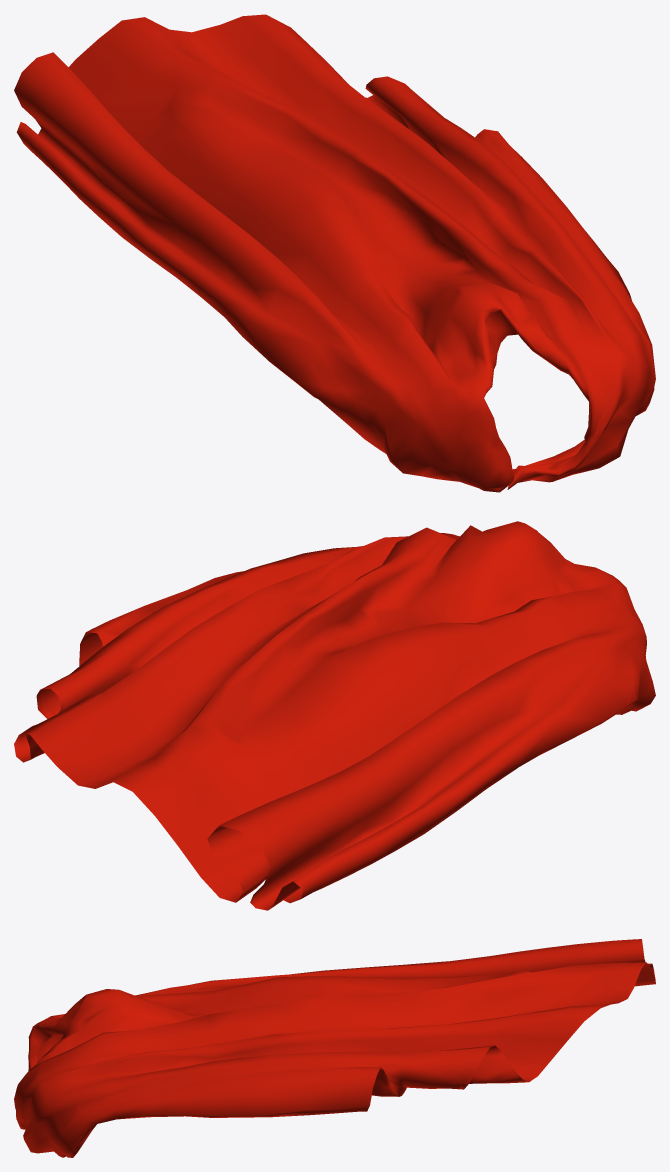
File: Cape2.obj
3 views of the same model, one above another, from view 1: azimuth 30°, elevation 25°; view 2: azimuth 150°, elevation 25°; view 3: azimuth 270°, elevation 25° (orthographic). The views are drawn at different scales.
Parts seen in each view (by area): view 1: cape; view 2: cape; view 3: cape.
Part boxes in pixels (<box>): cape: <box>14,14,655,492</box>; cape: <box>14,521,655,910</box>; cape: <box>14,939,655,1157</box>.
Size of the model in its own units: 8.19 by 4.43 by 16.31.
